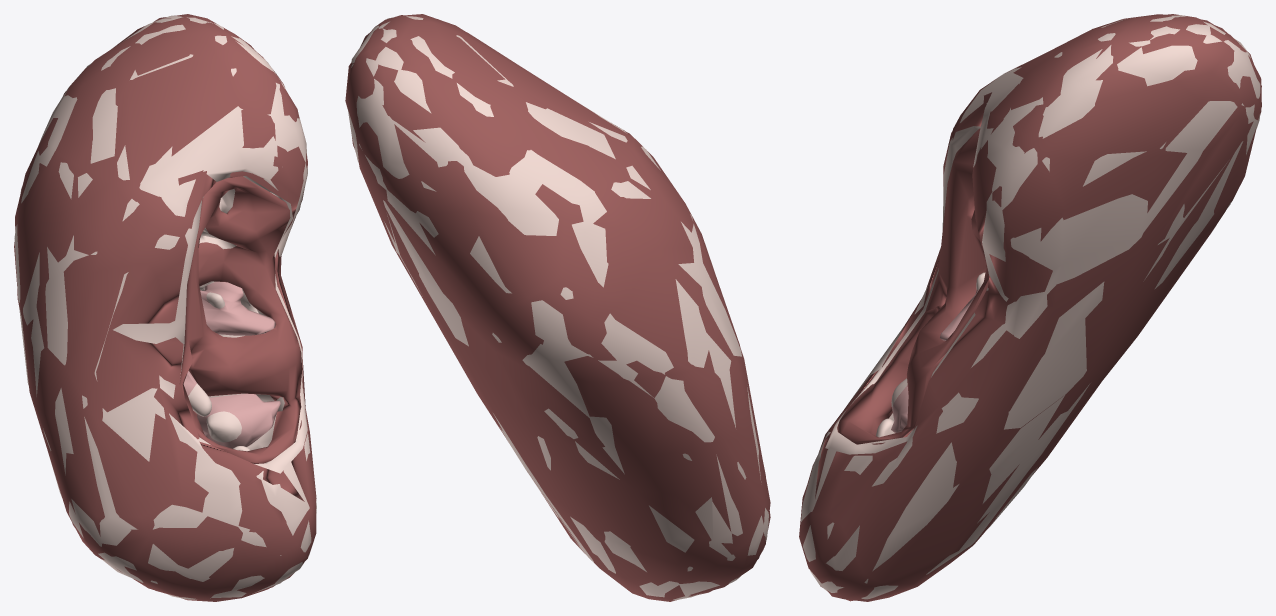
Rendered from kidney_r.glb.
3 views of the same model, side by side, from view 1: azimuth 30°, elevation 25°; view 2: azimuth 150°, elevation 25°; view 3: azimuth 270°, elevation 25° (orthographic). The views are drawn at different scales.
Visible parts, largest first — view 1: VH_M_kidney_capsule_R, VH_M_outer_cortex_of_kidney_R, VH_M_hilum_of_kidney_R, VH_M_renal_pyramid_f, VH_M_renal_pyramid_h, VH_M_renal_column_R, VH_M_renal_papilla_R_h, VH_M_renal_papilla_R_g; view 2: VH_M_kidney_capsule_R, VH_M_outer_cortex_of_kidney_R; view 3: VH_M_kidney_capsule_R, VH_M_outer_cortex_of_kidney_R, VH_M_hilum_of_kidney_R.
Boxes of the visible parts, x1,y1,x2,y2 form: VH_M_kidney_capsule_R: (14,14,316,601); VH_M_outer_cortex_of_kidney_R: (14,15,316,599); VH_M_hilum_of_kidney_R: (179,176,302,463); VH_M_renal_pyramid_f: (200,281,275,335); VH_M_renal_pyramid_h: (197,393,280,448); VH_M_renal_column_R: (199,189,276,450); VH_M_renal_papilla_R_h: (206,411,241,442); VH_M_renal_papilla_R_g: (188,383,211,416); VH_M_kidney_capsule_R: (345,14,770,601); VH_M_outer_cortex_of_kidney_R: (348,16,768,600); VH_M_kidney_capsule_R: (799,14,1261,601); VH_M_outer_cortex_of_kidney_R: (801,15,1260,599); VH_M_hilum_of_kidney_R: (837,128,989,444).
Size of the model in its own units: 0.0653 by 0.1123 by 0.0761.
